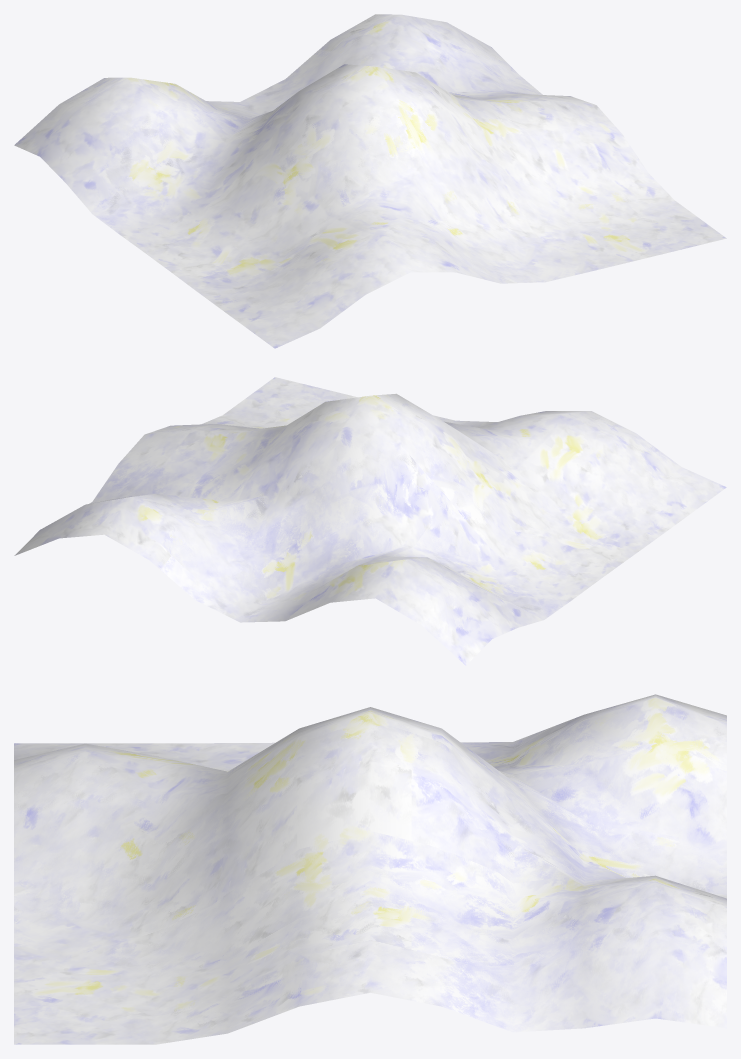
The model's file is SM_SnewPile_01.fbx.
3 views of the same model, one above another, from view 1: azimuth 30°, elevation 25°; view 2: azimuth 150°, elevation 25°; view 3: azimuth 270°, elevation 25° (orthographic). The views are drawn at different scales.
Parts seen in each view (by area): view 1: SM_SnewPile_01; view 2: SM_SnewPile_01; view 3: SM_SnewPile_01.
Part boxes in pixels (x1,y1,x2,y2): SM_SnewPile_01: [14, 14, 726, 348]; SM_SnewPile_01: [14, 377, 726, 665]; SM_SnewPile_01: [14, 694, 726, 1044].
Bounding box in the file's own units: 4.94 × 1.38 × 4.94.
1 material, 1 textured.
